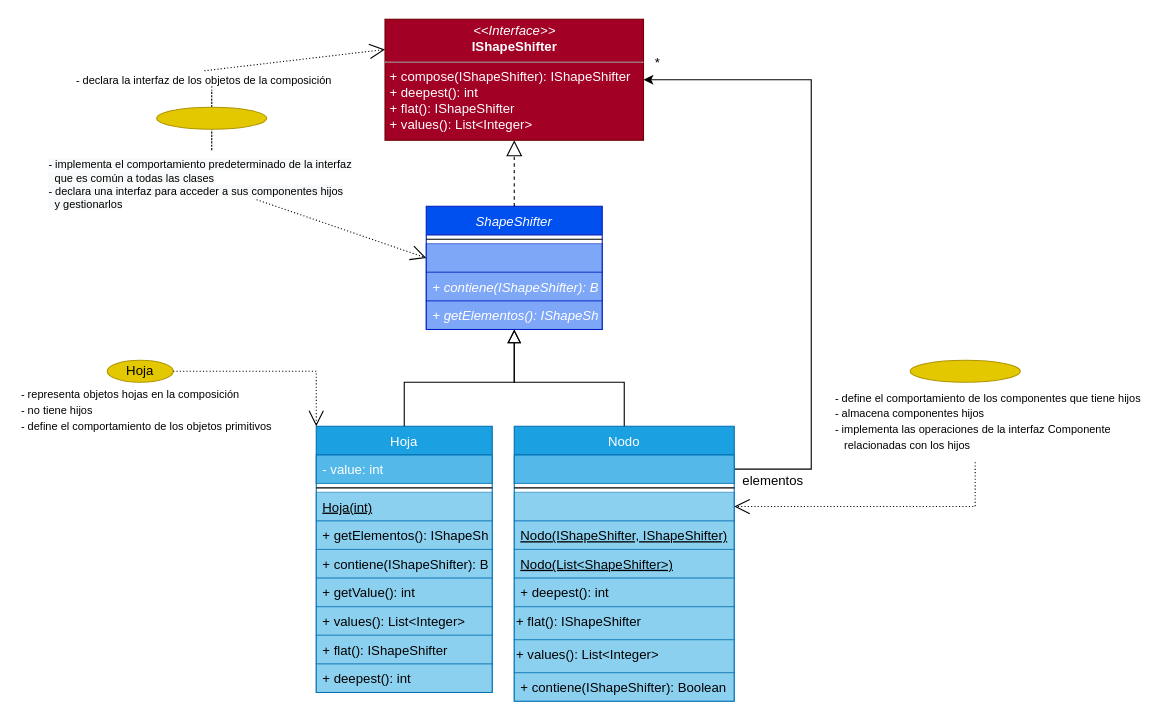
This 1170x724 diagram has some shape labels left out. The shapes that lost their labels are listed below. From the top down, each one's centre as x and y in pixels, then its label:
(x=211, y=117): Componente
(x=513, y=257): + compose(IShapeShiter): IShapeShifter
(x=964, y=370): Compuesto
(x=623, y=468): - profundidad: int
(x=623, y=506): Nodo()
